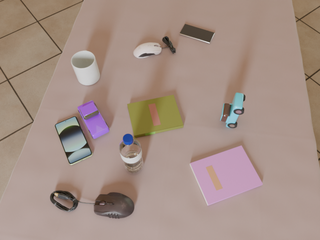book: (190, 146, 263, 205), (127, 95, 183, 138)
bottle: (119, 134, 143, 174)
cup: (71, 51, 100, 85)
mouse: (92, 192, 134, 219), (133, 43, 162, 58)
phone: (55, 116, 92, 165), (180, 24, 215, 43)
toy_car: (78, 101, 109, 139), (220, 93, 245, 128)
